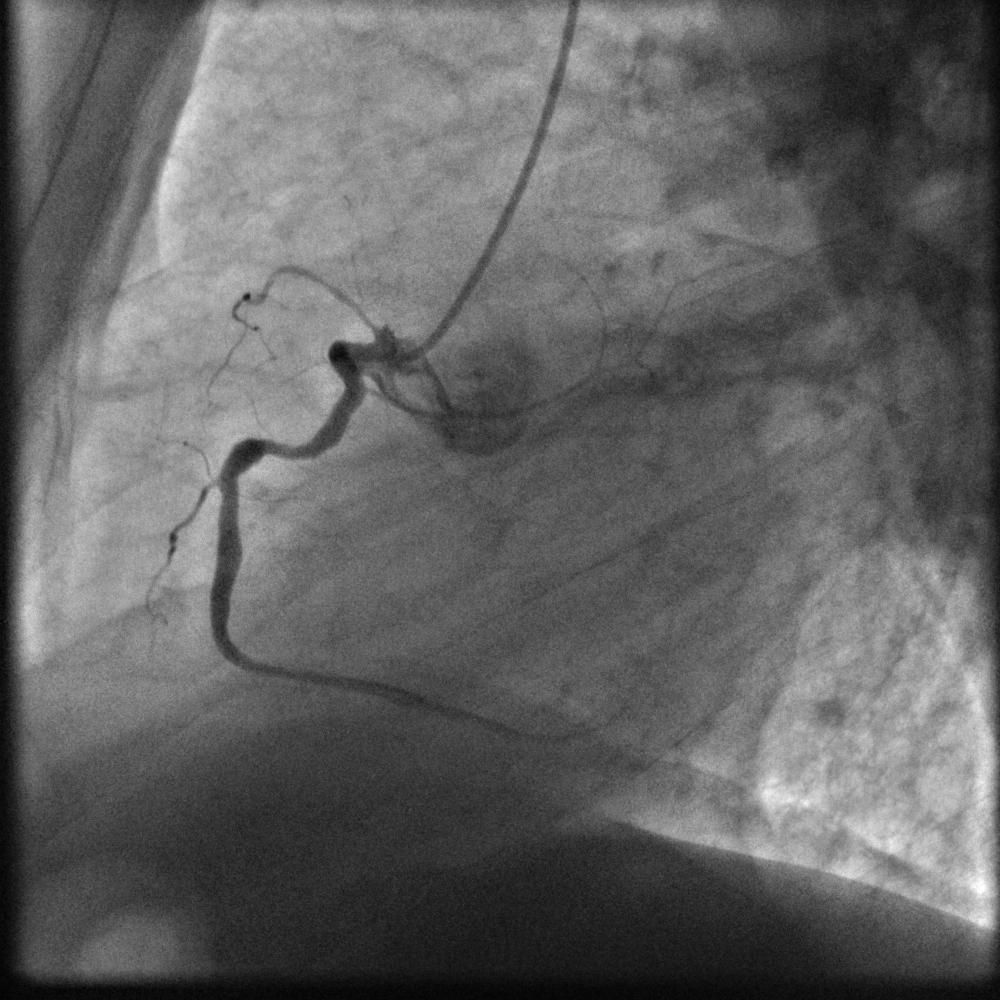Stenosis: (257, 435, 291, 459)
